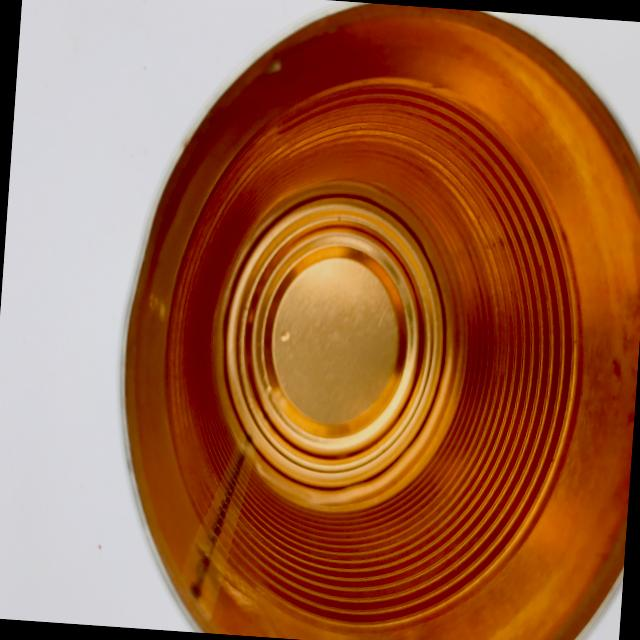Metal: (99, 0, 640, 640)
